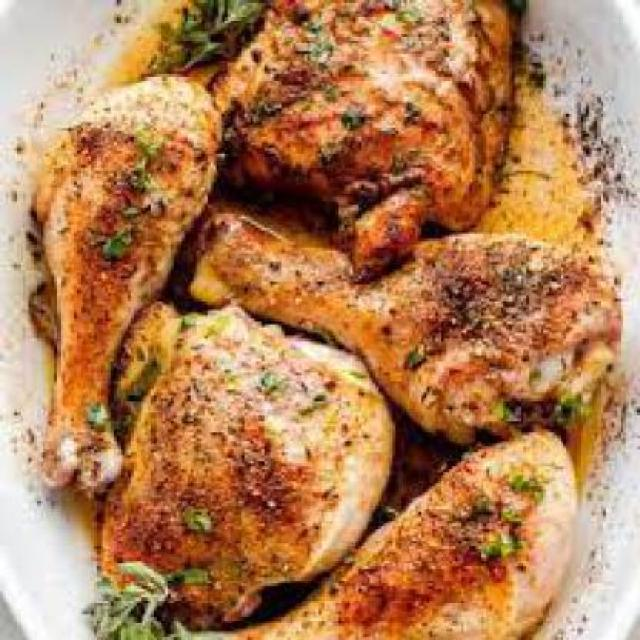Frango: (31, 2, 612, 638)
